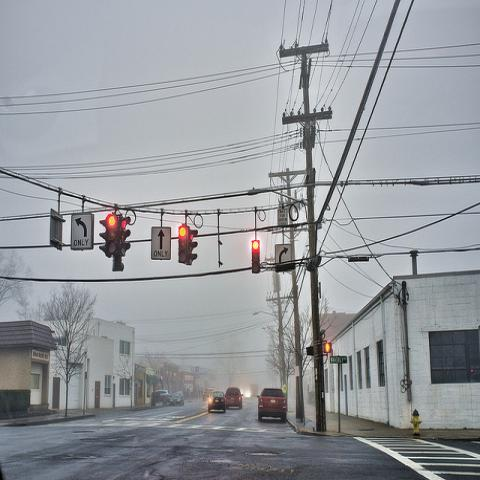car: (257, 389, 287, 422), (224, 387, 244, 409), (207, 390, 226, 412), (170, 390, 186, 406), (202, 386, 216, 402), (155, 390, 171, 402)
